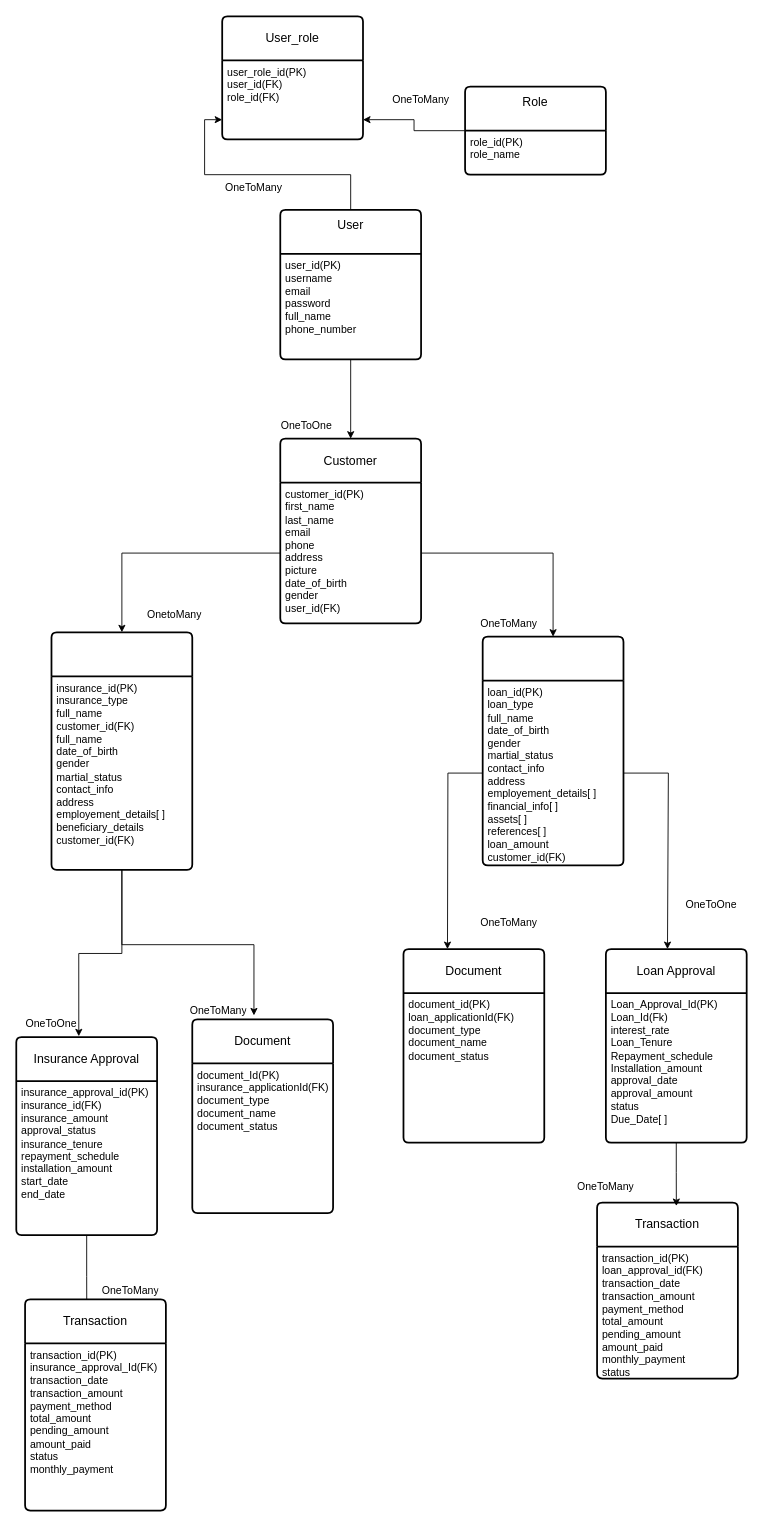
Some shapes in this 762 by 1526 pixel diagram are drawn without their labels. The box of each missing label's shape, as (x1, y1, x2, y2) in pixels:
Insurance Application: (50, 631, 193, 870)
Loan Application: (481, 635, 624, 866)
